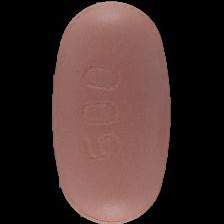53808-0411: (0, 0, 224, 224)
